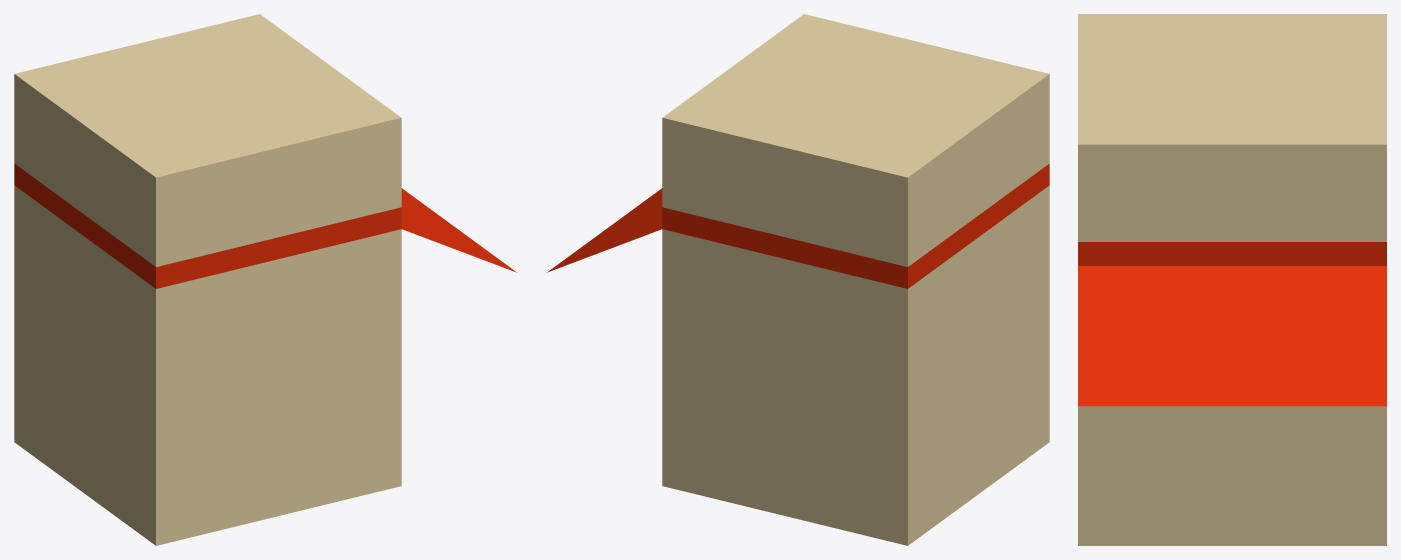
File: house-low.fbx
3 renders of one model, left to right at view 1: azimuth 30°, elevation 25°; view 2: azimuth 150°, elevation 25°; view 3: azimuth 270°, elevation 25°, orthographic. The views are drawn at different scales.
Visible parts, largest first — view 1: House-Low; view 2: House-Low; view 3: House-Low.
Part boxes in pixels (left/top/right/bottom): House-Low: left=14, top=14, right=516, bottom=545; House-Low: left=547, top=14, right=1049, bottom=545; House-Low: left=1078, top=14, right=1386, bottom=545.
Bounding box in the file's own units: 2 × 2.94 × 2.87.
